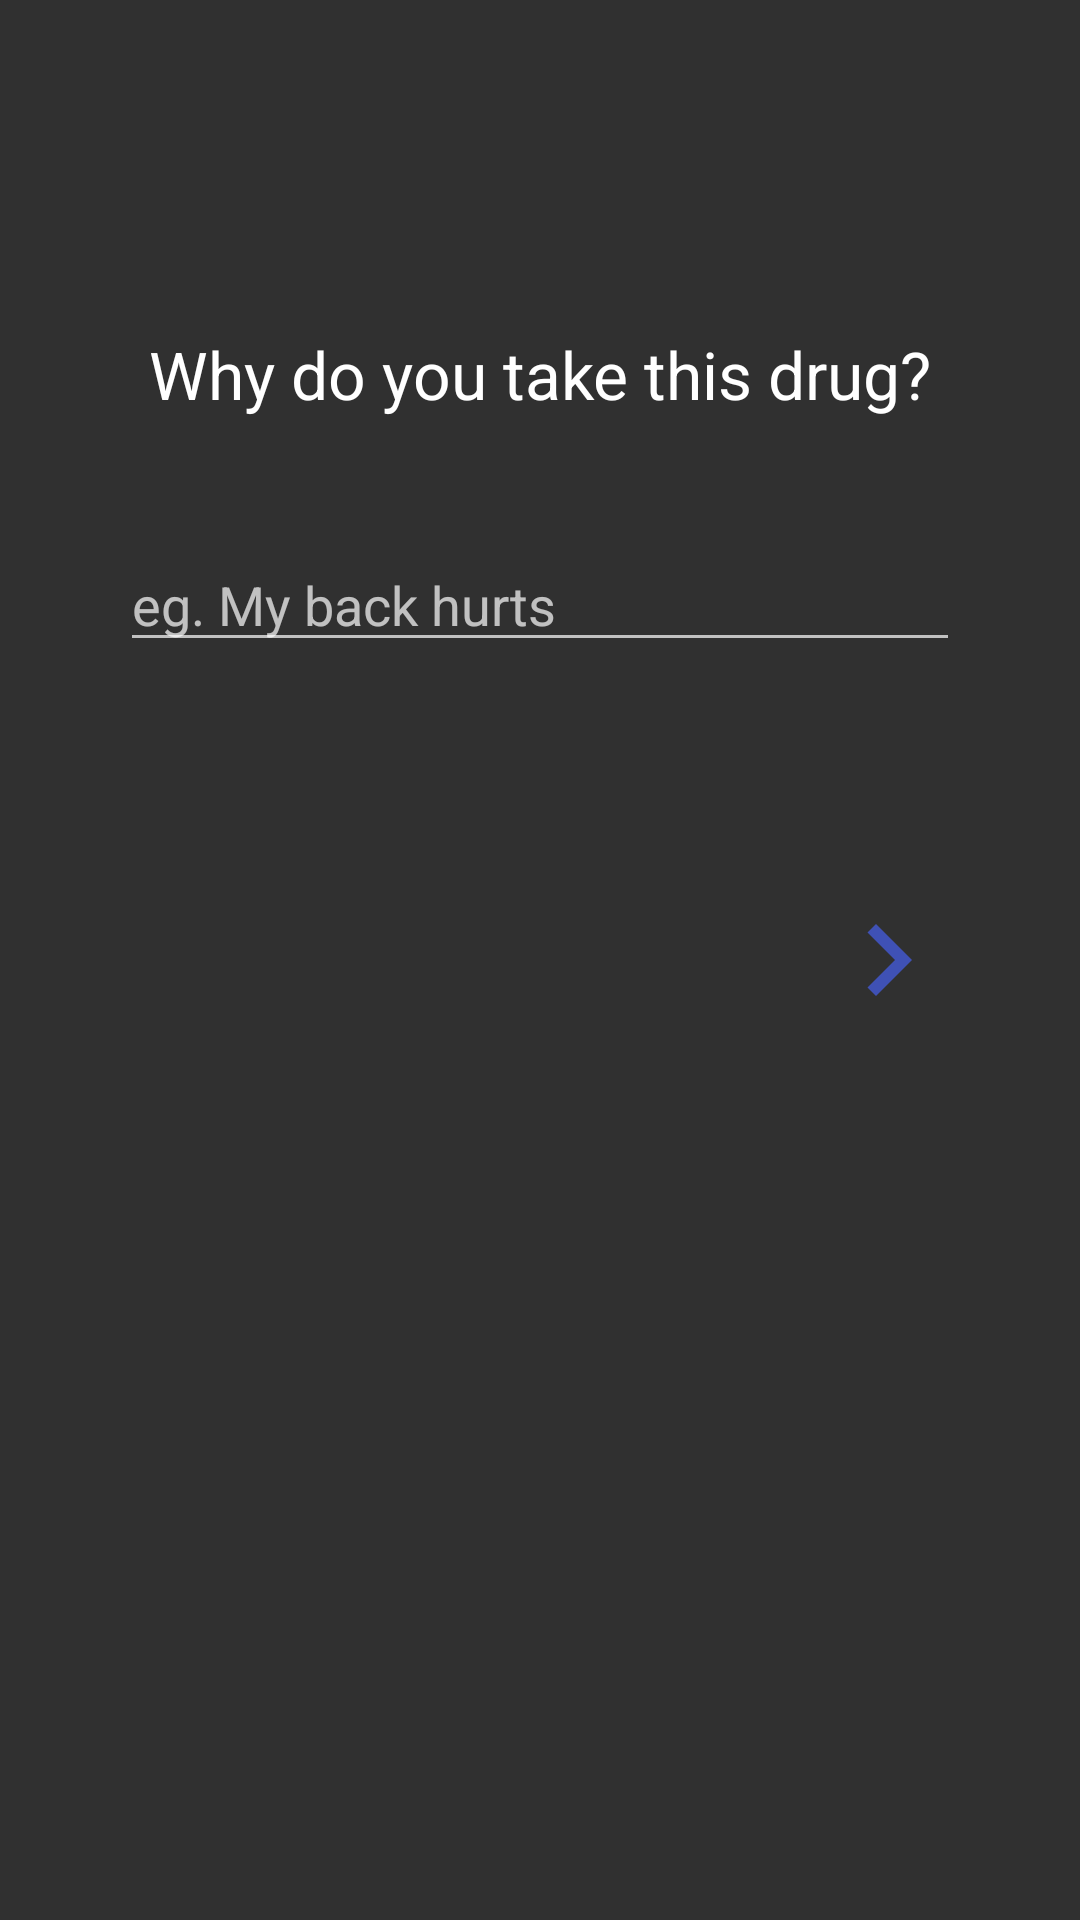

Icons on this 1080px×1920px Android screen, each with its box as (x1,y1,x2,y2):
Next stage: (867,924,912,996)
